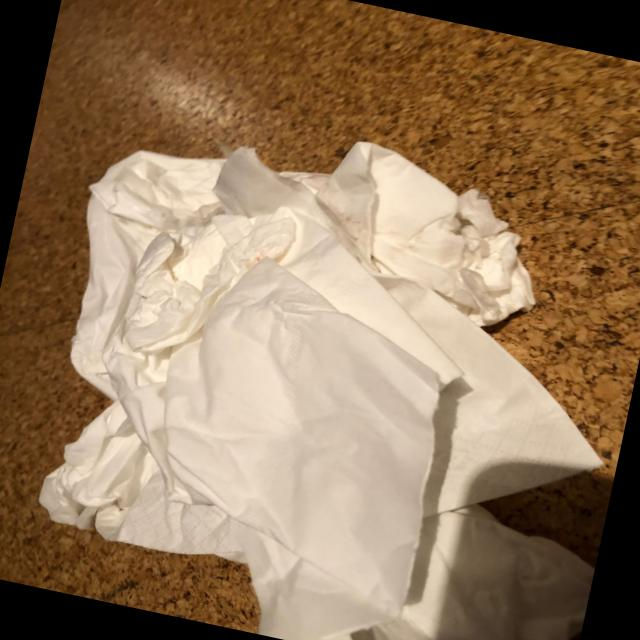organic waste: (1, 114, 499, 640), (43, 80, 564, 484), (14, 394, 606, 640), (303, 255, 636, 550)
